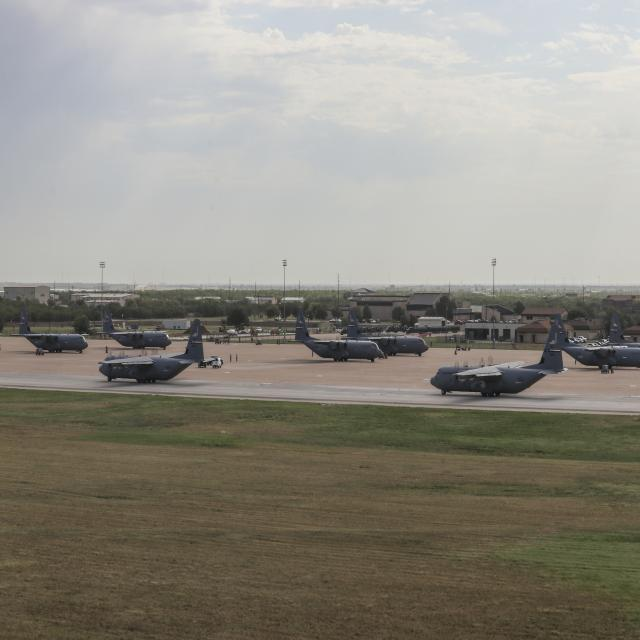MIL_Plane: (432, 292, 567, 364), (97, 318, 216, 383), (287, 309, 383, 363), (554, 313, 640, 369), (21, 309, 109, 357), (7, 307, 85, 353), (607, 312, 640, 347), (96, 322, 172, 334)
